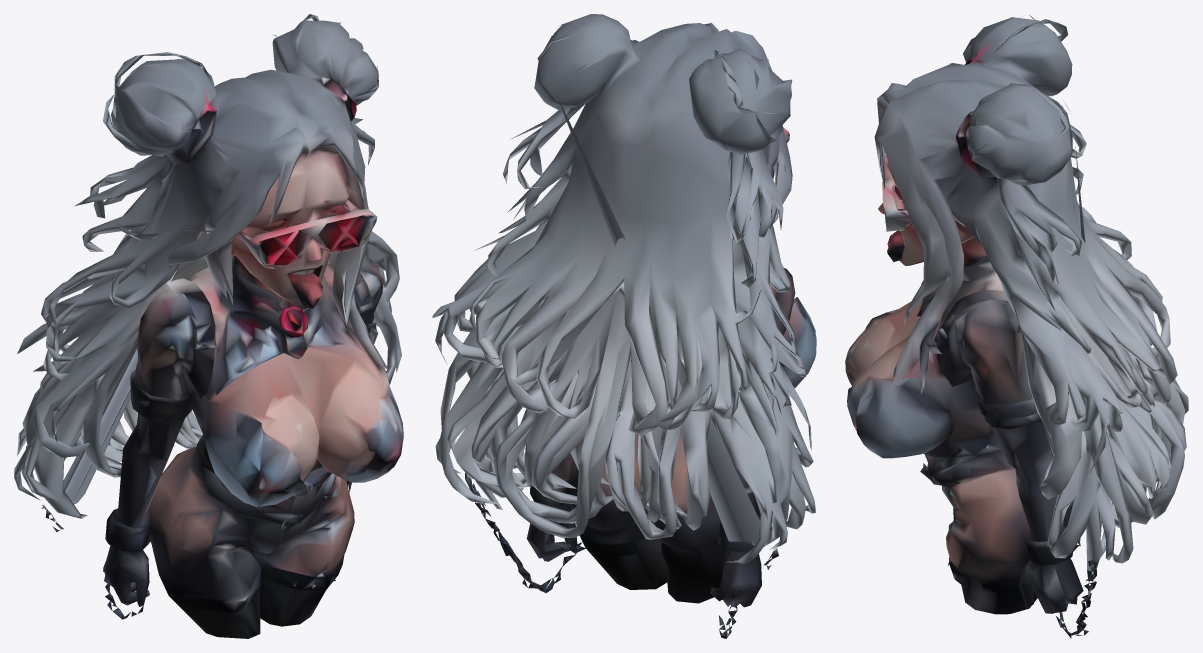
File: 01a19d7b-ab0f-7759-858b-8cd480bcf1d9.glb
3 renders of one model, left to right at view 1: azimuth 30°, elevation 25°; view 2: azimuth 150°, elevation 25°; view 3: azimuth 270°, elevation 25°, orthographic. The views are drawn at different scales.
Parts seen in each view (by area): view 1: model; view 2: model; view 3: model.
Boxes of the visible parts, left/top/right/bottom form: model: left=14, top=14, right=403, bottom=638; model: left=432, top=14, right=816, bottom=638; model: left=845, top=15, right=1188, bottom=638.
Bounding box in the file's own units: 1.29 × 1.91 × 1.09.
